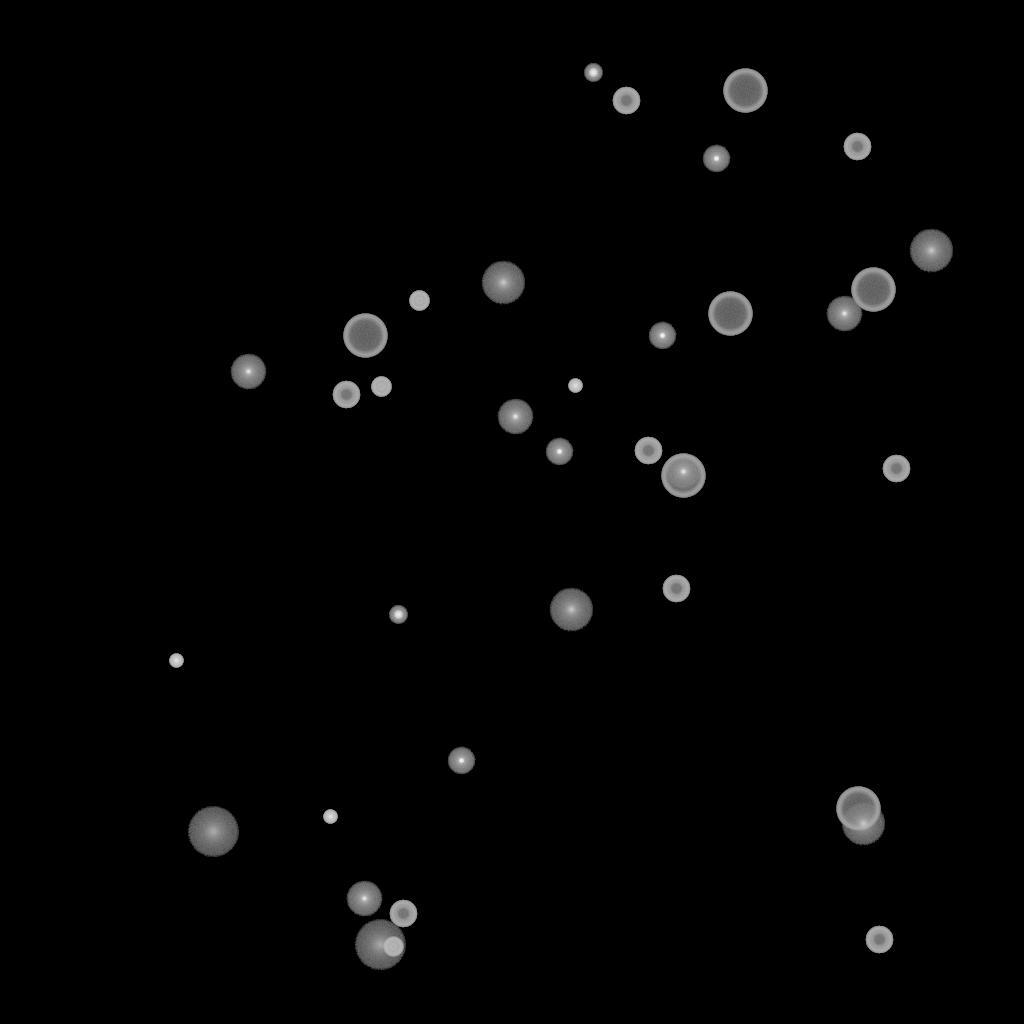depth:-10: (545, 438, 573, 466), (648, 322, 676, 350), (447, 747, 475, 775), (702, 145, 730, 173)
depth:-20: (389, 606, 407, 624), (584, 64, 602, 82)
depth:-30: (169, 654, 183, 668), (323, 810, 337, 824), (568, 379, 582, 393)
depth:-40: (409, 291, 429, 311), (383, 937, 403, 957), (371, 377, 391, 397)
depth:-50: (865, 926, 893, 954), (612, 87, 640, 115), (843, 133, 871, 161), (389, 900, 417, 928), (882, 455, 910, 483), (332, 381, 360, 409), (634, 437, 662, 465), (662, 575, 690, 603)
depth:-70: (723, 69, 767, 113), (836, 787, 880, 831), (343, 314, 387, 358), (708, 292, 752, 336), (661, 454, 705, 498), (851, 268, 895, 312)
depth:0: (230, 354, 266, 390), (826, 296, 862, 332), (497, 399, 533, 435), (665, 454, 701, 490), (346, 881, 382, 917)
depth:10: (909, 229, 953, 273), (481, 261, 525, 305), (841, 802, 885, 846), (549, 588, 593, 632)
depth:20: (354, 920, 406, 970), (187, 807, 239, 857)
